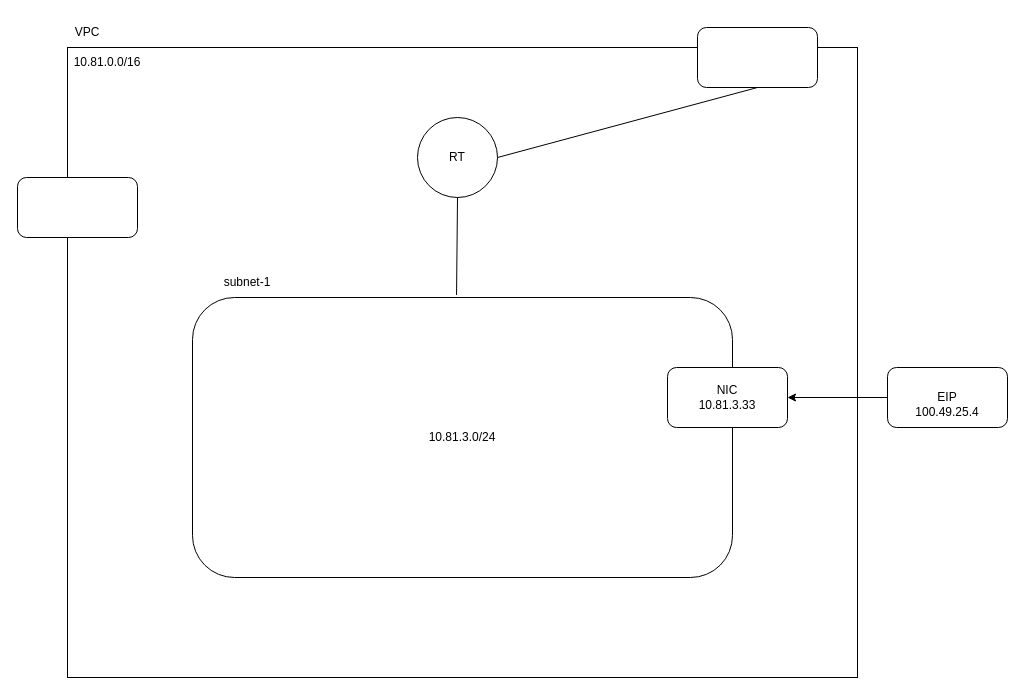
Some shapes in this 1025 by 695 pixel diagram are drawn without their labels. The shapes that lost their labels are listed below. From the top down, each one's centre as x and y in pixels, then its label:
At pixel 757 57: "IGW".
At pixel 77 207: "Security Group".
